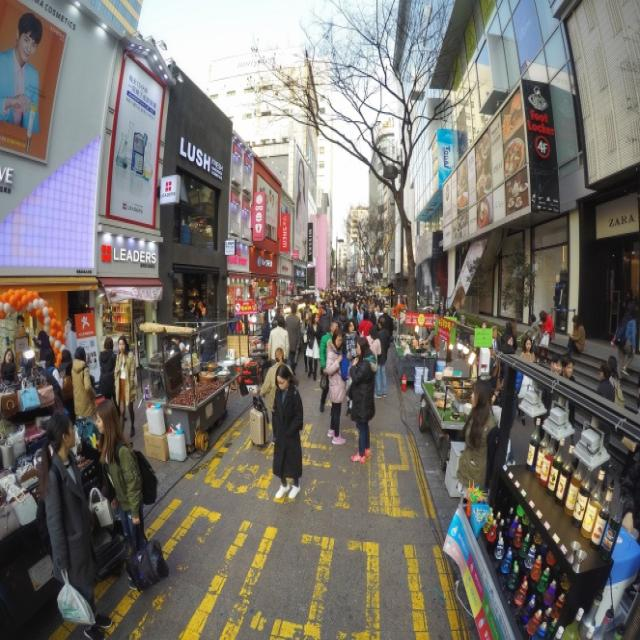body: (35, 407, 116, 639), (94, 399, 148, 591), (0, 9, 46, 135), (288, 274, 422, 317), (456, 380, 500, 494), (269, 364, 304, 501), (344, 335, 378, 465), (259, 346, 295, 449), (324, 327, 350, 446), (113, 335, 139, 440), (497, 334, 522, 432), (292, 155, 314, 265), (538, 354, 564, 442), (617, 443, 640, 541), (318, 319, 340, 415), (0, 361, 20, 466), (341, 320, 362, 418), (70, 347, 96, 422), (171, 167, 196, 241), (595, 363, 616, 450), (164, 323, 211, 361), (57, 349, 77, 427), (619, 301, 638, 379), (96, 336, 118, 402), (374, 316, 391, 400), (560, 358, 576, 446), (284, 302, 302, 378), (454, 314, 472, 388), (258, 183, 280, 243), (304, 312, 323, 381), (36, 346, 64, 392), (550, 274, 572, 330), (268, 314, 290, 367), (534, 309, 555, 364), (369, 325, 383, 399), (564, 314, 587, 358), (607, 356, 626, 408), (526, 314, 544, 364), (36, 330, 56, 371), (59, 315, 78, 358), (228, 310, 259, 335), (435, 300, 447, 362), (0, 347, 18, 385), (11, 313, 29, 349), (375, 306, 394, 338), (424, 302, 434, 356), (500, 323, 518, 352), (356, 310, 374, 339), (260, 312, 271, 359), (518, 336, 537, 363), (419, 323, 435, 352), (180, 297, 198, 322), (303, 318, 310, 371), (486, 344, 496, 377), (620, 288, 636, 308), (491, 326, 501, 350), (256, 284, 269, 302), (273, 308, 285, 322), (444, 307, 457, 318)
